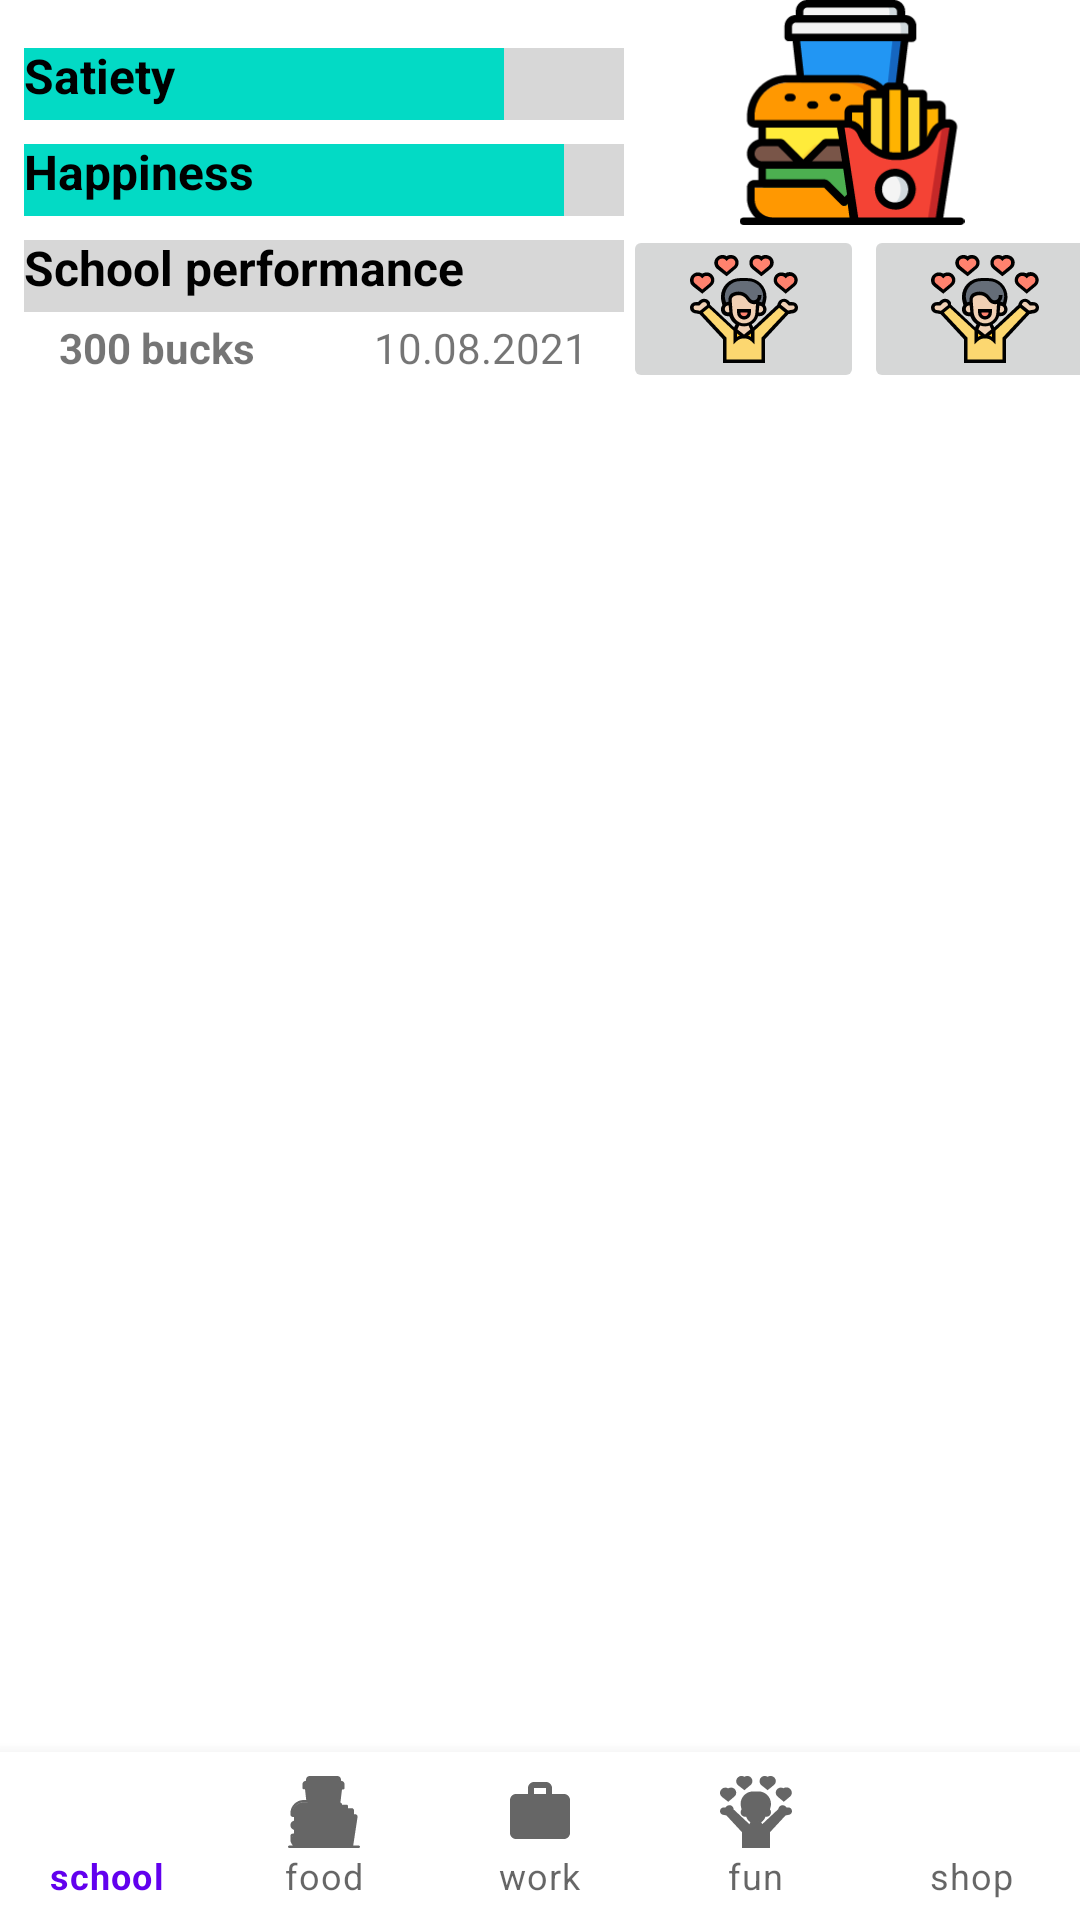

Icon bounding boxes for this 1080 × 1920 phone screenshot, format bbox(x1, y1, x2, y2):
food: bbox(740, 0, 965, 225)
